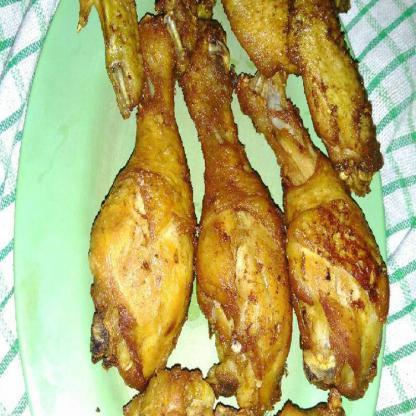ayam_goreng: (161, 0, 292, 409), (236, 73, 388, 397), (90, 17, 177, 390), (225, 0, 384, 199)
